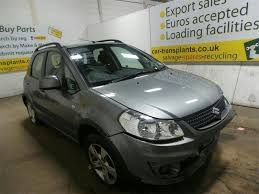Dent: (173, 89, 236, 178)
